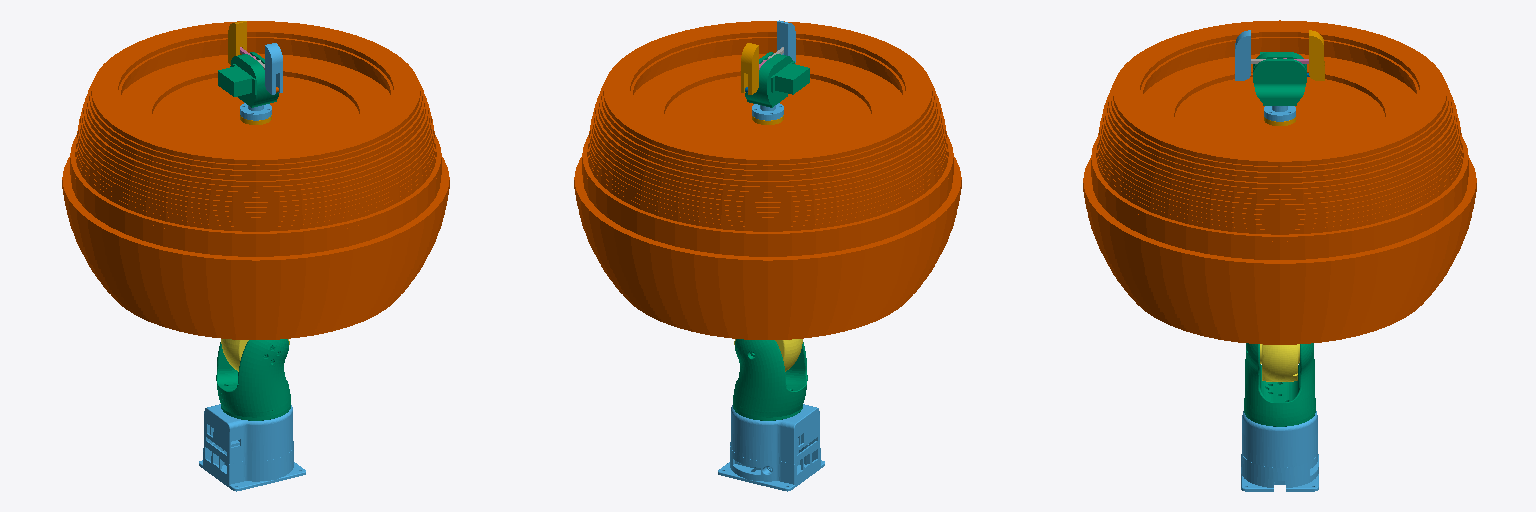
The robot description file, URDF, robot "myarm_reduced_preview":
<?xml version="1.0" ?>
<robot name="myarm_reduced_preview">
  <!-- GENERATED by tools/make_reduced_model.py. Do not edit by hand. -->
  <link name="world"/>
  <joint name="virtual_fixed_joint" type="fixed">
    <parent link="world"/>
    <child link="base"/>
    <origin xyz="0 0 0" rpy="0 0 0"/>
  </joint>
  <link name="base">
    <inertial>
      <origin xyz="0 0 0" rpy="0 0 0"/>
      <mass value="1.0"/>
      <inertia ixx="0.01" ixy="0.0" ixz="0.0" iyy="0.01" iyz="0.0" izz="0.01"/>
    </inertial>
    <visual>
      <geometry>
        <mesh filename="package://myarm_300_pi/meshes/base.stl"/>
      </geometry>
      <material name="white_arm"/>
    </visual>
    <collision>
      <geometry>
        <mesh filename="package://myarm_300_pi/meshes/base.stl"/>
      </geometry>
    </collision>
  </link>
  <link name="link1">
    <inertial>
      <origin xyz="0 0 0" rpy="0 0 0"/>
      <mass value="0.5"/>
      <inertia ixx="0.01" ixy="0.0" ixz="0.0" iyy="0.01" iyz="0.0" izz="0.01"/>
    </inertial>
    <visual>
      <geometry>
        <mesh filename="package://myarm_300_pi/meshes/j1.stl"/>
      </geometry>
      <origin rpy="0 0 0" xyz="0 0 -0.086"/>
      <material name="white_arm"/>
    </visual>
    <collision>
      <geometry>
        <mesh filename="package://myarm_300_pi/meshes/j1.stl"/>
      </geometry>
      <origin rpy="0 0 0" xyz="0 0 -0.086"/>
    </collision>
  </link>
  <joint name="joint1" type="revolute">
    <axis xyz="0 0 1"/>
    <limit effort="1000.0" lower="-2.7925" upper="2.7925" velocity="2.0"/>
    <parent link="base"/>
    <child link="link1"/>
    <origin rpy="0 0 0" xyz="0 0 0.1695"/>
  </joint>
  <link name="link2">
    <inertial>
      <origin xyz="0 0 0" rpy="0 0 0"/>
      <mass value="0.5"/>
      <inertia ixx="0.01" ixy="0.0" ixz="0.0" iyy="0.01" iyz="0.0" izz="0.01"/>
    </inertial>
    <visual>
      <geometry>
        <mesh filename="package://myarm_300_pi/meshes/j2.stl"/>
      </geometry>
      <origin rpy="3.14159 0 -1.5708" xyz="0 0 0"/>
      <material name="white_arm"/>
    </visual>
    <collision>
      <geometry>
        <mesh filename="package://myarm_300_pi/meshes/j2.stl"/>
      </geometry>
      <origin rpy="3.14159 0 -1.5708" xyz="0 0 0"/>
    </collision>
  </link>
  <joint name="joint2" type="revolute">
    <axis xyz="0 0 1"/>
    <limit effort="1000.0" lower="-1.2217" upper="2.0071" velocity="2.0"/>
    <parent link="link1"/>
    <child link="link2"/>
    <origin rpy="-1.5708 0 0" xyz="0 0 0"/>
  </joint>
  <link name="link3">
    <inertial>
      <origin xyz="0 0 0" rpy="0 0 0"/>
      <mass value="0.5"/>
      <inertia ixx="0.01" ixy="0.0" ixz="0.0" iyy="0.01" iyz="0.0" izz="0.01"/>
    </inertial>
    <visual>
      <geometry>
        <mesh filename="package://myarm_300_pi/meshes/j3.stl"/>
      </geometry>
      <origin rpy="0 0 0" xyz="0 0 -0.056"/>
      <material name="white_arm"/>
    </visual>
    <collision>
      <geometry>
        <mesh filename="package://myarm_300_pi/meshes/j3.stl"/>
      </geometry>
      <origin rpy="0 0 0" xyz="0 0 -0.056"/>
    </collision>
  </link>
  <joint name="joint3" type="revolute">
    <axis xyz="0 0 1"/>
    <limit effort="1000.0" lower="-2.9670" upper="2.9670" velocity="2.0"/>
    <parent link="link2"/>
    <child link="link3"/>
    <origin rpy="1.5708 0 0" xyz="0 -0.1155 0"/>
  </joint>
  <link name="link4">
    <inertial>
      <origin xyz="0 0 0" rpy="0 0 0"/>
      <mass value="0.5"/>
      <inertia ixx="0.01" ixy="0.0" ixz="0.0" iyy="0.01" iyz="0.0" izz="0.01"/>
    </inertial>
    <visual>
      <geometry>
        <mesh filename="package://myarm_300_pi/meshes/j4.stl"/>
      </geometry>
      <origin rpy="0 0 1.5708" xyz="0 0 0"/>
      <material name="white_arm"/>
    </visual>
    <collision>
      <geometry>
        <mesh filename="package://myarm_300_pi/meshes/j4.stl"/>
      </geometry>
      <origin rpy="0 0 1.5708" xyz="0 0 0"/>
    </collision>
  </link>
  <joint name="joint4" type="revolute">
    <axis xyz="0 0 1"/>
    <limit effort="1000.0" lower="-1.9722" upper="1.3089" velocity="2.0"/>
    <parent link="link3"/>
    <child link="link4"/>
    <origin rpy="1.5708 0 0" xyz="0 0 0"/>
  </joint>
  <link name="link5">
    <inertial>
      <origin xyz="0 0 0" rpy="0 0 0"/>
      <mass value="0.5"/>
      <inertia ixx="0.01" ixy="0.0" ixz="0.0" iyy="0.01" iyz="0.0" izz="0.01"/>
    </inertial>
    <visual>
      <geometry>
        <mesh filename="package://myarm_300_pi/meshes/j5.stl"/>
      </geometry>
      <origin rpy="0 0 0" xyz="0 0 -0.0525"/>
      <material name="white_arm"/>
    </visual>
    <collision>
      <geometry>
        <mesh filename="package://myarm_300_pi/meshes/j5.stl"/>
      </geometry>
      <origin rpy="0 0 0" xyz="0 0 -0.0525"/>
    </collision>
  </link>
  <joint name="joint5" type="revolute">
    <axis xyz="0 0 1"/>
    <limit effort="1000.0" lower="-2.9670" upper="2.9670" velocity="2.0"/>
    <parent link="link4"/>
    <child link="link5"/>
    <origin rpy="-1.5708 0 0" xyz="0 0.1278 0"/>
  </joint>
  <link name="link6">
    <inertial>
      <origin xyz="0 0 0" rpy="0 0 0"/>
      <mass value="0.5"/>
      <inertia ixx="0.01" ixy="0.0" ixz="0.0" iyy="0.01" iyz="0.0" izz="0.01"/>
    </inertial>
    <visual>
      <geometry>
        <mesh filename="package://myarm_300_pi/meshes/j6.stl"/>
      </geometry>
      <origin rpy="0 0 1.5708" xyz="0 0 0"/>
      <material name="white_arm"/>
    </visual>
    <collision>
      <geometry>
        <mesh filename="package://myarm_300_pi/meshes/j6.stl"/>
      </geometry>
      <origin rpy="0 0 1.5708" xyz="0 0 0"/>
    </collision>
  </link>
  <joint name="joint6" type="revolute">
    <axis xyz="0 0 1"/>
    <limit effort="1000.0" lower="-2.0071" upper="2.0071" velocity="2.0"/>
    <parent link="link5"/>
    <child link="link6"/>
    <origin rpy="1.5708 0 0" xyz="0 0 0"/>
  </joint>
  <link name="link7">
    <inertial>
      <origin xyz="0 0 0" rpy="0 0 0"/>
      <mass value="0.5"/>
      <inertia ixx="0.01" ixy="0.0" ixz="0.0" iyy="0.01" iyz="0.0" izz="0.01"/>
    </inertial>
    <visual>
      <geometry>
        <mesh filename="package://myarm_300_pi/meshes/j7.stl"/>
      </geometry>
      <origin rpy="0 0 0" xyz="0.0002 -0.0002 -0.0185"/>
      <material name="white_arm"/>
    </visual>
    <collision>
      <geometry>
        <mesh filename="package://myarm_300_pi/meshes/j7.stl"/>
      </geometry>
      <origin rpy="0 0 0" xyz="0.0002 -0.0002 -0.0185"/>
    </collision>
  </link>
  <joint name="joint7" type="revolute">
    <axis xyz="0 0 1"/>
    <limit effort="1000.0" lower="-3.14159" upper="3.14159" velocity="2.0"/>
    <parent link="link6"/>
    <child link="link7"/>
    <origin rpy="-1.5708 0 0" xyz="0 0.066 0"/>
  </joint>
  <link name="flange_link">
    <inertial>
      <origin xyz="0 0 0" rpy="0 0 0"/>
      <mass value="0.05"/>
      <inertia ixx="0.001" ixy="0.0" ixz="0.0" iyy="0.001" iyz="0.0" izz="0.001"/>
    </inertial>
    <visual>
      <geometry>
        <mesh filename="package://myarm_300_pi/meshes/flange.stl" scale="0.001 0.001 0.001"/>
      </geometry>
      <material name="gray_part"/>
    </visual>
    <collision>
      <geometry>
        <mesh filename="package://myarm_300_pi/meshes/flange.stl" scale="0.001 0.001 0.001"/>
      </geometry>
    </collision>
  </link>
  <joint name="flange_joint" type="fixed">
    <parent link="link7"/>
    <child link="flange_link"/>
    <origin xyz="0 0 -0.001" rpy="0 0 0"/>
  </joint>
  <link name="gripper_base">
    <inertial>
      <mass value="0.2"/>
      <inertia ixx="0.001" ixy="0.0" ixz="0.0" iyy="0.001" iyz="0.0" izz="0.001"/>
    </inertial>
    <visual>
      <geometry>
        <mesh filename="package://myarm_300_pi/meshes/GripperBase.stl" scale="0.001 0.001 0.001"/>
      </geometry>
      <material name="gray_part"/>
    </visual>
    <collision>
      <origin rpy="0 0 0" xyz="0 0 0.0275"/>
      <geometry>
        <box size="0.065 0.0348 0.055"/>
      </geometry>
    </collision>
  </link>
  <joint name="joint7_to_gripper_base" type="fixed">
    <parent link="flange_link"/>
    <child link="gripper_base"/>
    <origin rpy="0 0 1.5708" xyz="0 0 0.02"/>
  </joint>
  <link name="gripper_mid_point">
    <inertial>
      <mass value="0.01"/>
      <inertia ixx="0.001" ixy="0" ixz="0" iyy="0.001" iyz="0" izz="0.001"/>
    </inertial>
  </link>
  <link name="gripper_arm_gear_right">
    <inertial>
      <mass value="0.01"/>
      <inertia ixx="0.001" ixy="0" ixz="0" iyy="0.001" iyz="0" izz="0.001"/>
    </inertial>
    <visual>
      <origin rpy="0 -1.57 1.57"/>
      <geometry>
        <mesh filename="package://myarm_300_pi/meshes/GripperArmGear.stl" scale="0.001 0.001 0.001"/>
      </geometry>
      <material name="gray_part"/>
    </visual>
    <collision>
      <origin xyz="0.0175 -0.0025 0.0"/>
      <geometry>
        <box size="0.035 0.005 0.004"/>
      </geometry>
    </collision>
  </link>
  <link name="gripper_arm_gear_left">
    <inertial>
      <mass value="0.01"/>
      <inertia ixx="0.001" ixy="0" ixz="0" iyy="0.001" iyz="0" izz="0.001"/>
    </inertial>
    <visual>
      <origin rpy="0 1.57 -1.57"/>
      <geometry>
        <mesh filename="package://myarm_300_pi/meshes/GripperArmGear.stl" scale="0.001 0.001 0.001"/>
      </geometry>
      <material name="gray_part"/>
    </visual>
    <collision>
      <origin xyz="-0.0175 -0.0025 0.0"/>
      <geometry>
        <box size="0.035 0.005 0.004"/>
      </geometry>
    </collision>
  </link>
  <link name="gripper_arm_simple_right">
    <inertial>
      <mass value="0.01"/>
      <inertia ixx="0.001" ixy="0" ixz="0" iyy="0.001" iyz="0" izz="0.001"/>
    </inertial>
    <visual>
      <origin rpy="0 -1.57 1.57"/>
      <geometry>
        <mesh filename="package://myarm_300_pi/meshes/GripperArm.stl" scale="0.001 0.001 0.001"/>
      </geometry>
      <material name="gray_part"/>
    </visual>
    <collision>
      <origin xyz="0.0175 -0.0025 0.0"/>
      <geometry>
        <box size="0.035 0.005 0.004"/>
      </geometry>
    </collision>
  </link>
  <link name="gripper_arm_simple_left">
    <inertial>
      <mass value="0.01"/>
      <inertia ixx="0.001" ixy="0" ixz="0" iyy="0.001" iyz="0" izz="0.001"/>
    </inertial>
    <visual>
      <origin rpy="0 1.57 -1.57"/>
      <geometry>
        <mesh filename="package://myarm_300_pi/meshes/GripperArm.stl" scale="0.001 0.001 0.001"/>
      </geometry>
      <material name="gray_part"/>
    </visual>
    <collision>
      <origin xyz="-0.0175 -0.0025 0.0"/>
      <geometry>
        <box size="0.035 0.005 0.004"/>
      </geometry>
    </collision>
  </link>
  <link name="gripper_finger_right">
    <inertial>
      <mass value="0.01"/>
      <inertia ixx="0.001" ixy="0" ixz="0" iyy="0.001" iyz="0" izz="0.001"/>
    </inertial>
    <visual>
      <origin rpy="0 0 0" xyz="0 0 0"/>
      <geometry>
        <mesh filename="package://myarm_300_pi/meshes/GripperFinger.stl" scale="0.001 0.001 0.001"/>
      </geometry>
      <material name="gray_part"/>
    </visual>
    <collision>
      <origin xyz="0.00525 0.026 0.00775"/>
      <geometry>
        <box size="0.0185 0.06 0.0155"/>
      </geometry>
    </collision>
  </link>
  <link name="gripper_finger_left">
    <inertial>
      <mass value="0.01"/>
      <inertia ixx="0.001" ixy="0" ixz="0" iyy="0.001" iyz="0" izz="0.001"/>
    </inertial>
    <visual>
      <origin rpy="0 0 0" xyz="0 0 0"/>
      <geometry>
        <mesh filename="package://myarm_300_pi/meshes/GripperFinger.stl" scale="0.001 0.001 0.001"/>
      </geometry>
      <material name="gray_part"/>
    </visual>
    <collision>
      <origin xyz="0.00525 0.026 0.00775"/>
      <geometry>
        <box size="0.0185 0.06 0.0155"/>
      </geometry>
    </collision>
  </link>
  <link name="endeffector">
    <inertial>
      <mass value="0.01"/>
      <inertia ixx="0.001" ixy="0" ixz="0" iyy="0.001" iyz="0" izz="0.001"/>
    </inertial>
  </link>
  <joint name="gripperbase_to_midpoint" type="fixed">
    <parent link="gripper_base"/>
    <child link="gripper_mid_point"/>
    <origin rpy="0 0 0" xyz="0 0 0.075"/>
  </joint>
  <joint name="link7_to_endeffector" type="fixed">
    <parent link="link7"/>
    <child link="endeffector"/>
    <origin rpy="0 0 0" xyz="0 0 0.1"/>
  </joint>
  <joint name="endeffector_gripper" type="revolute">
    <parent link="gripper_base"/>
    <child link="gripper_arm_gear_right"/>
    <origin rpy="0 0 0" xyz="0.0145 0.00275 0.0325"/>
    <axis xyz="0 1 0"/>
    <limit effort="4.0" lower="-1.57" upper="0" velocity="1.0"/>
  </joint>
  <joint name="gripperbase_to_armgearleft" type="revolute">
    <parent link="gripper_base"/>
    <child link="gripper_arm_gear_left"/>
    <origin rpy="0 0 0" xyz="-0.0145 0.00275 0.0325"/>
    <axis xyz="0 1 0"/>
    <limit effort="4.0" lower="0" upper="1.57" velocity="1.0"/>
    <mimic joint="endeffector_gripper" multiplier="-1"/>
  </joint>
  <joint name="gripperbase_to_armsimpleright" type="revolute">
    <parent link="gripper_base"/>
    <child link="gripper_arm_simple_right"/>
    <origin rpy="0 0 0" xyz="0.006 0.00275 0.051"/>
    <axis xyz="0 1 0"/>
    <limit effort="4.0" lower="-1.57" upper="0" velocity="1.0"/>
    <mimic joint="endeffector_gripper" multiplier="1"/>
  </joint>
  <joint name="gripperbase_to_armsimpleleft" type="revolute">
    <parent link="gripper_base"/>
    <child link="gripper_arm_simple_left"/>
    <origin rpy="0 0 0" xyz="-0.006 0.00275 0.051"/>
    <axis xyz="0 1 0"/>
    <limit effort="4.0" lower="0" upper="1.57" velocity="1.0"/>
    <mimic joint="endeffector_gripper" multiplier="-1"/>
  </joint>
  <joint name="armgearright_to_fingerright" type="revolute">
    <parent link="gripper_arm_gear_right"/>
    <child link="gripper_finger_right"/>
    <origin rpy="-1.57 3.14 0" xyz="0.035 -0.01023 0"/>
    <axis xyz="0 0 1"/>
    <limit effort="4.0" lower="0" upper="1.57" velocity="1.0"/>
    <mimic joint="endeffector_gripper" multiplier="-1"/>
  </joint>
  <joint name="armgearleft_to_fingerleft" type="revolute">
    <parent link="gripper_arm_gear_left"/>
    <child link="gripper_finger_left"/>
    <origin rpy="1.57 0 0" xyz="-0.035 0.005175 0"/>
    <axis xyz="0 0 1"/>
    <limit effort="4.0" lower="0" upper="1.57" velocity="1.0"/>
    <mimic joint="endeffector_gripper" multiplier="-1"/>
  </joint>
  <link name="wrist_center"/>
  <joint name="wrist_center_fixed" type="fixed">
    <parent link="link4"/>
    <child link="wrist_center"/>
    <origin xyz="0 0.1278 0" rpy="-1.5708 0 0"/>
  </joint>
  <link name="blob_align_link"/>
  <joint name="blob_align_x" type="continuous">
    <parent link="wrist_center"/>
    <child link="blob_align_link"/>
    <origin xyz="0 0 0" rpy="0 0 0"/>
    <axis xyz="1 0 0"/>
  </joint>
  <joint name="blob_align_y" type="continuous">
    <parent link="blob_align_link"/>
    <child link="wrist_blob"/>
    <origin xyz="0 0 0" rpy="0 0 0"/>
    <axis xyz="0 1 0"/>
  </joint>
  <link name="wrist_blob">
    <visual>
      <geometry>
        <mesh filename="package://my_robot_control/generated/wrist_blob_carry.stl"/>
      </geometry>
    </visual>
    <collision>
      <geometry>
        <mesh filename="package://my_robot_control/generated/wrist_blob_carry.stl"/>
      </geometry>
    </collision>
    <inertial>
      <mass value="0.001"/>
      <inertia ixx="1e-6" ixy="0" ixz="0" iyy="1e-6" iyz="0" izz="1e-6"/>
    </inertial>
  </link>
</robot>

--- Render facts (derived) ---
3 views of the same robot in one strip: view 1: azimuth 30°, elevation 25°; view 2: azimuth 150°, elevation 25°; view 3: azimuth 270°, elevation 25° (orthographic).
Robot: myarm_reduced_preview — 22 links, 21 joints (13 revolute, 2 continuous, 6 fixed); root link world; default pose: every joint at zero.
Links seen in each view (by area): view 1: wrist_blob, base, link1, gripper_base, gripper_finger_left, gripper_finger_right, link2; view 2: wrist_blob, base, link1, gripper_base, gripper_finger_right, gripper_finger_left, link2; view 3: wrist_blob, base, link1, gripper_base, link2, gripper_finger_left, gripper_finger_right.
Boxes of the visible links, box(x1,y1,x2,y2) form: wrist_blob: box(62, 21, 449, 339); base: box(199, 404, 305, 491); link1: box(216, 339, 290, 420); gripper_base: box(218, 52, 278, 107); gripper_finger_left: box(265, 43, 282, 94); gripper_finger_right: box(228, 21, 246, 64); link2: box(221, 339, 289, 371); wrist_blob: box(574, 21, 961, 339); base: box(718, 404, 824, 491); link1: box(733, 339, 807, 420); gripper_base: box(745, 52, 809, 107); gripper_finger_right: box(741, 43, 758, 94); gripper_finger_left: box(777, 20, 795, 62); link2: box(734, 339, 802, 371); wrist_blob: box(1083, 20, 1476, 344); base: box(1241, 411, 1318, 491); link1: box(1244, 343, 1315, 426); gripper_base: box(1253, 52, 1306, 105); link2: box(1260, 344, 1299, 381); gripper_finger_left: box(1235, 30, 1250, 80); gripper_finger_right: box(1309, 30, 1324, 80).
Bounding box of the posed robot: 0.4731 × 0.4731 × 0.5863 m (x, y, z).
Meshes: 14 distinct files referenced, 17 mesh visuals loaded (14 binary STL).
